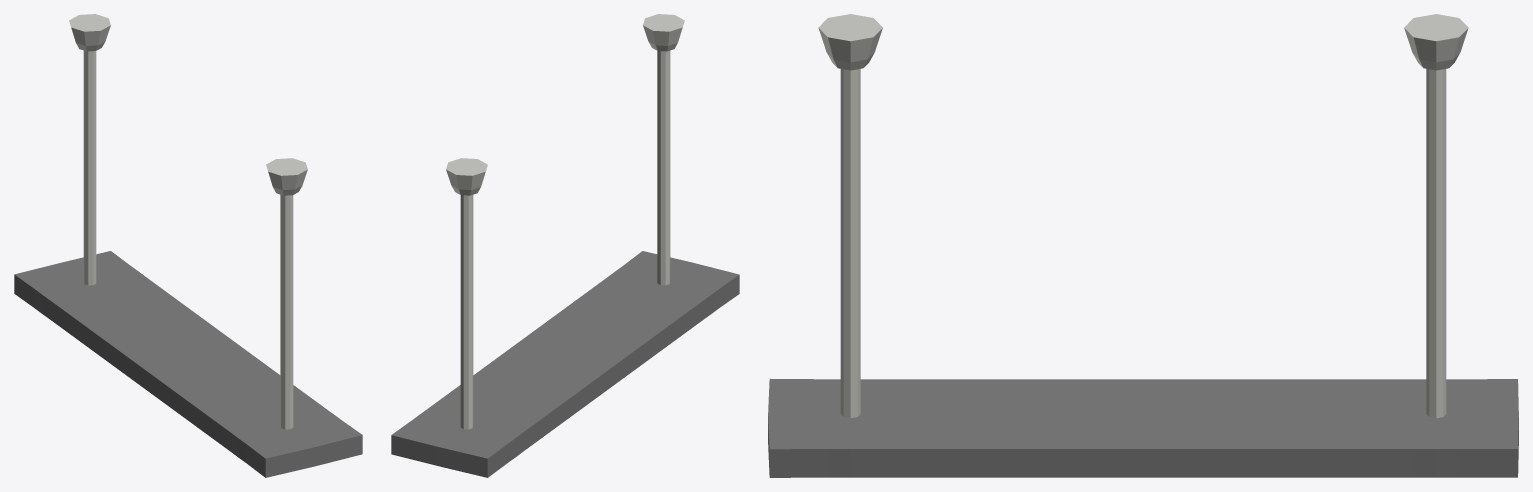
The model's file is CeilingLight.fbx.
3 renders of one model, left to right at view 1: azimuth 30°, elevation 25°; view 2: azimuth 150°, elevation 25°; view 3: azimuth 270°, elevation 25°, orthographic. The views are drawn at different scales.
Visible parts, largest first — view 1: Cylinder.006; view 2: Cylinder.006; view 3: Cylinder.006.
Boxes of the visible parts, x1,y1,x2,y2 form: Cylinder.006: [14, 14, 362, 477]; Cylinder.006: [391, 14, 739, 477]; Cylinder.006: [768, 14, 1518, 477].
Size of the model in its own units: 77.45 by 213 by 349.
